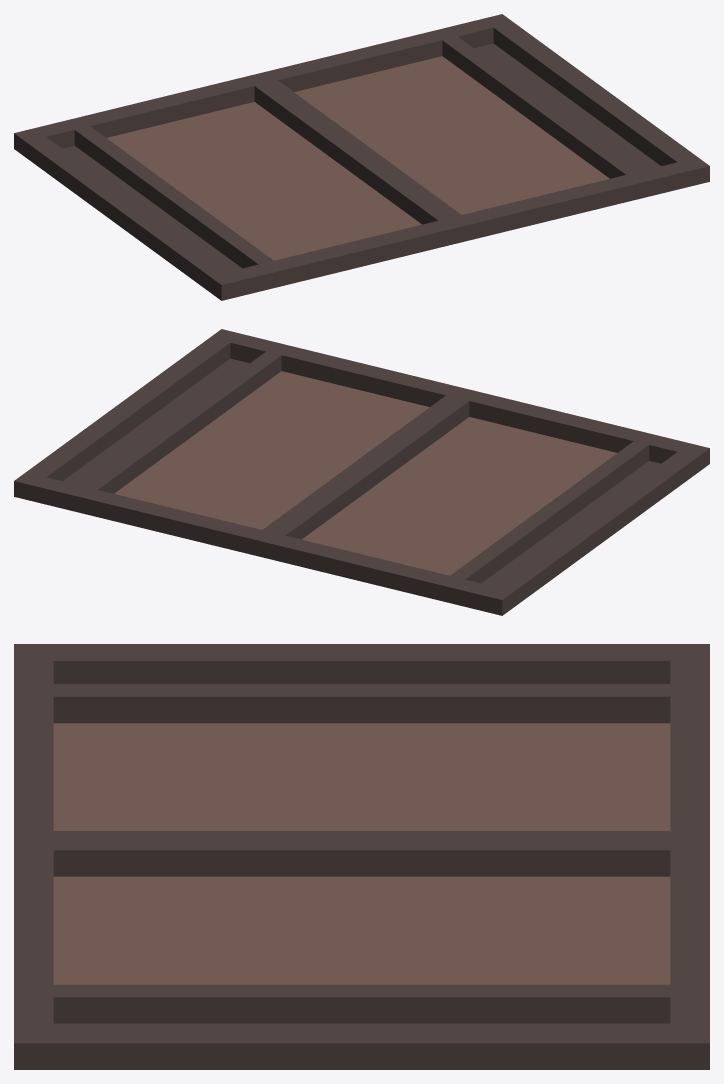
File: board.fbx
The picture shows the model from 3 angles, top to bottom: view 1: azimuth 30°, elevation 25°; view 2: azimuth 150°, elevation 25°; view 3: azimuth 270°, elevation 25°; orthographic projection. The views are drawn at different scales.
Parts seen in each view (by area): view 1: Board; view 2: Board; view 3: Board.
Part boxes in pixels (box(x1,y1,x2,y2)): Board: box(14, 14, 709, 300); Board: box(14, 329, 709, 615); Board: box(14, 644, 709, 1069).
Bounding box in the file's own units: 3.8 × 0.1176 × 2.8.
